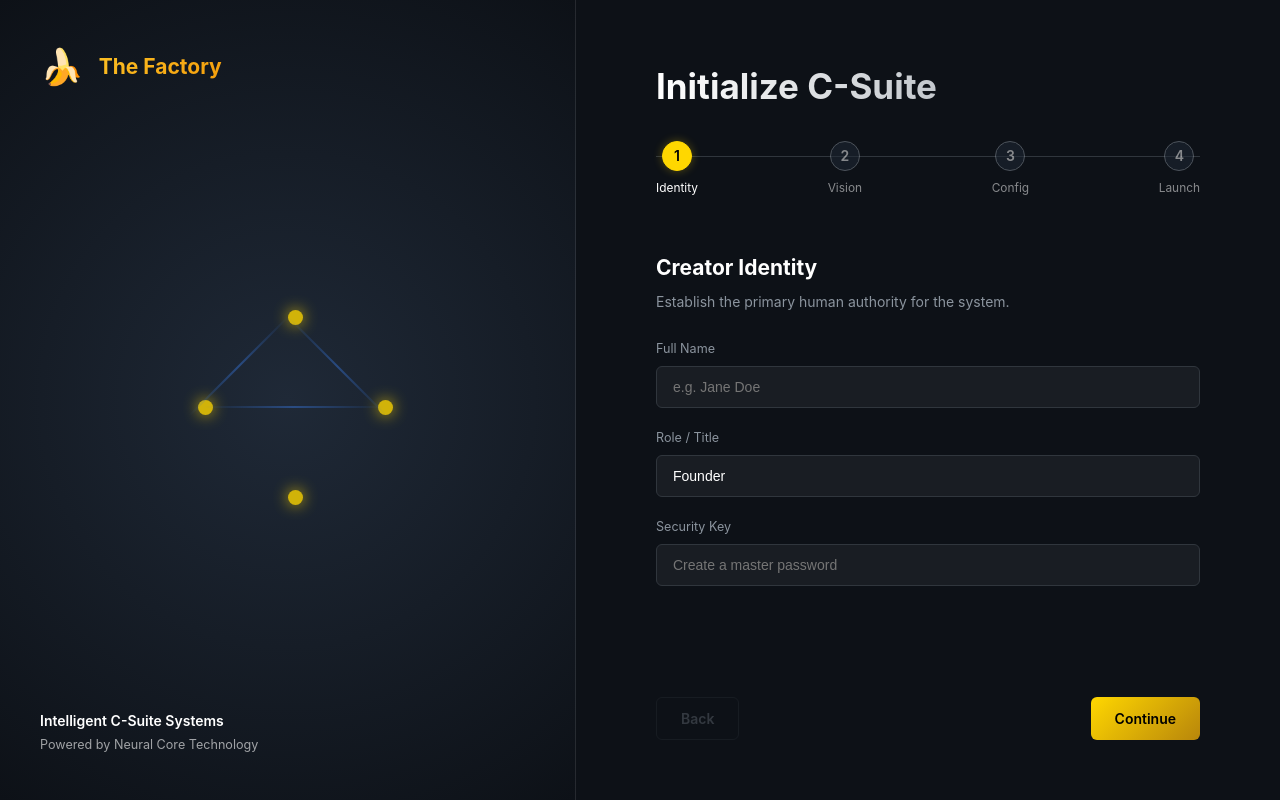
Scenario: Onboarding Page › button text changes to "Initialize System" on final step
Note: Fill step 1
Type "John Doe" into the field with placeholder "e.g. Jane Doe" at (928, 387), box [656,366,1200,408]
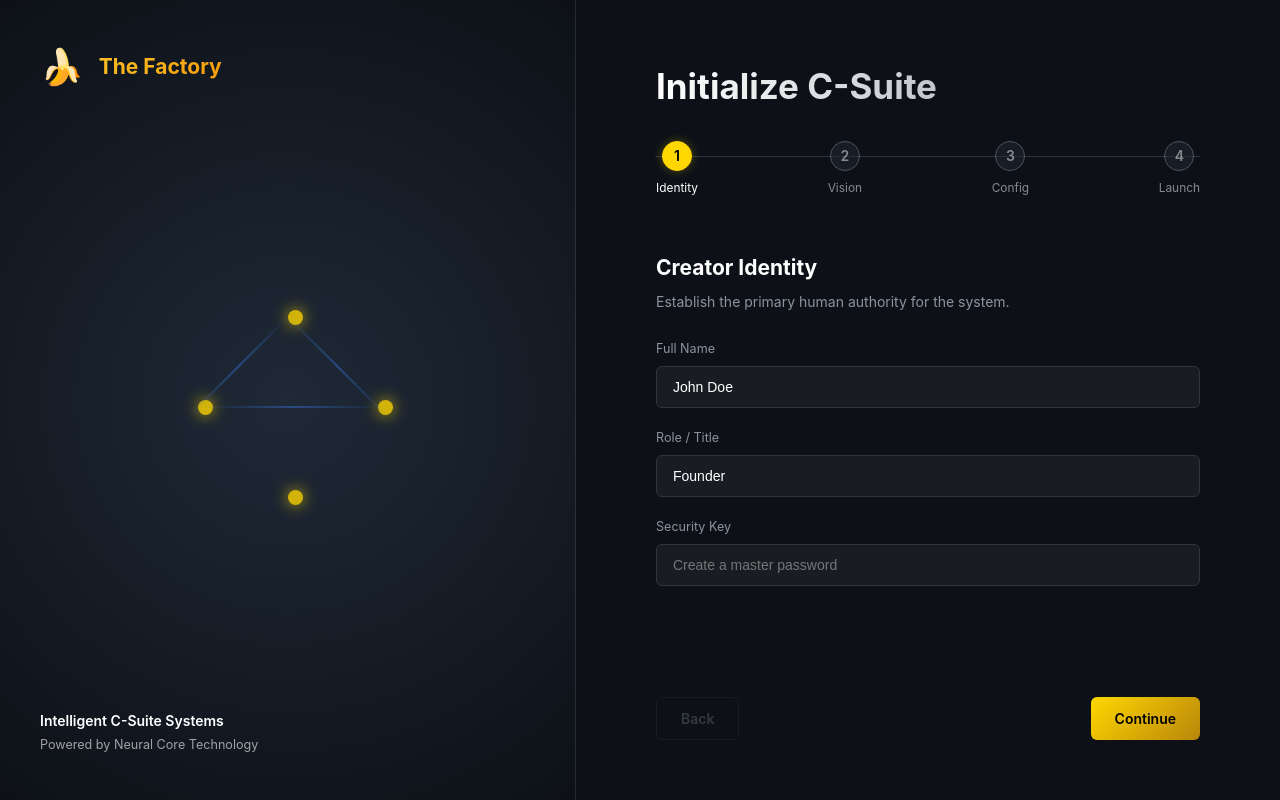
Click the button "Continue" at (1145, 718), box [1091,697,1200,740]
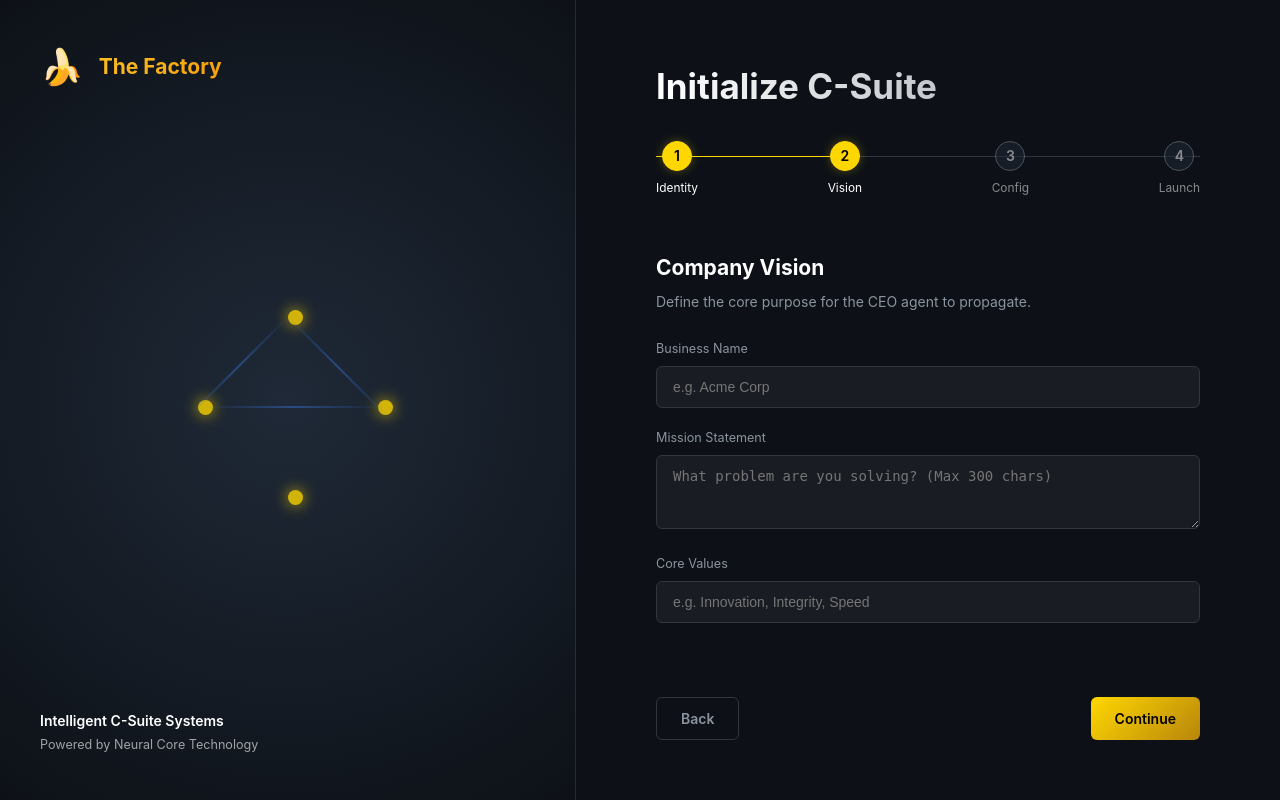
Note: Fill step 2
Type "Test Corp" into the field with placeholder "e.g. Acme Corp" at (928, 387), box [656,366,1200,408]
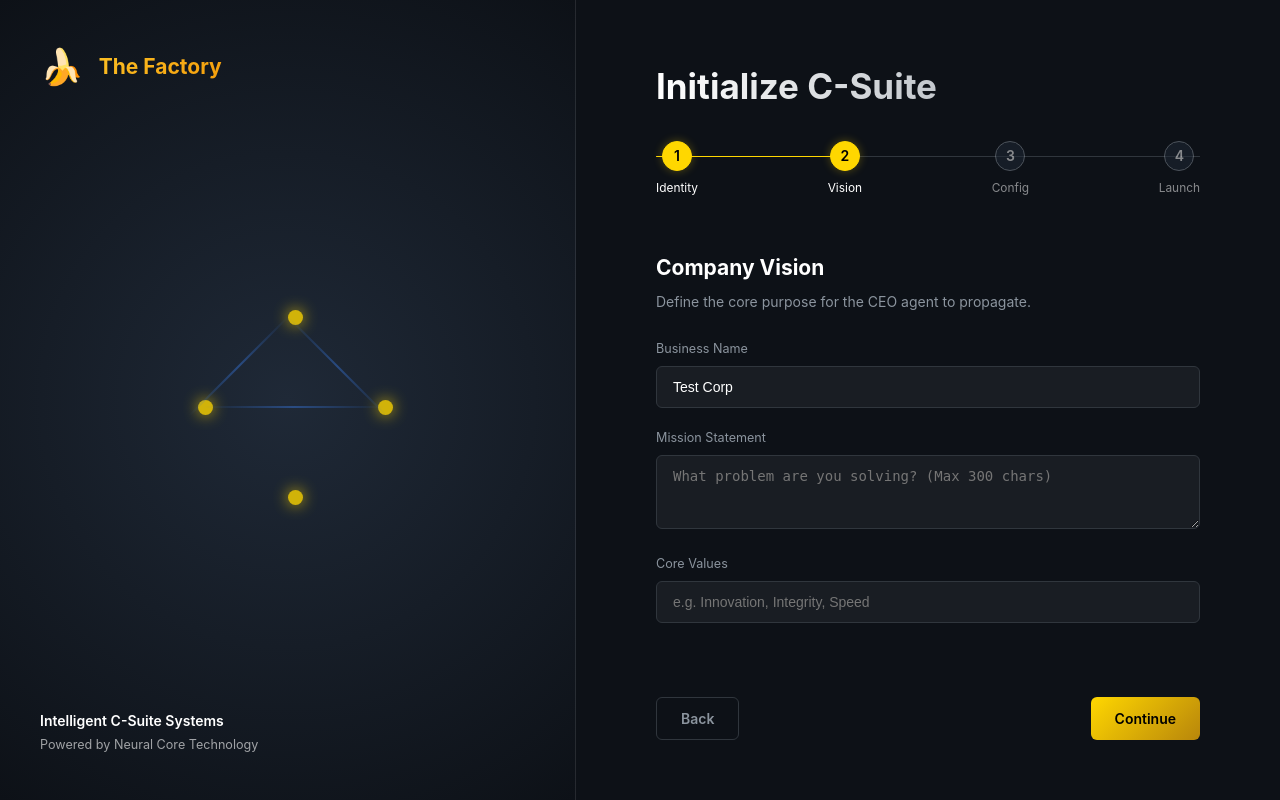
Click the button "Continue" at (1145, 718), box [1091,697,1200,740]
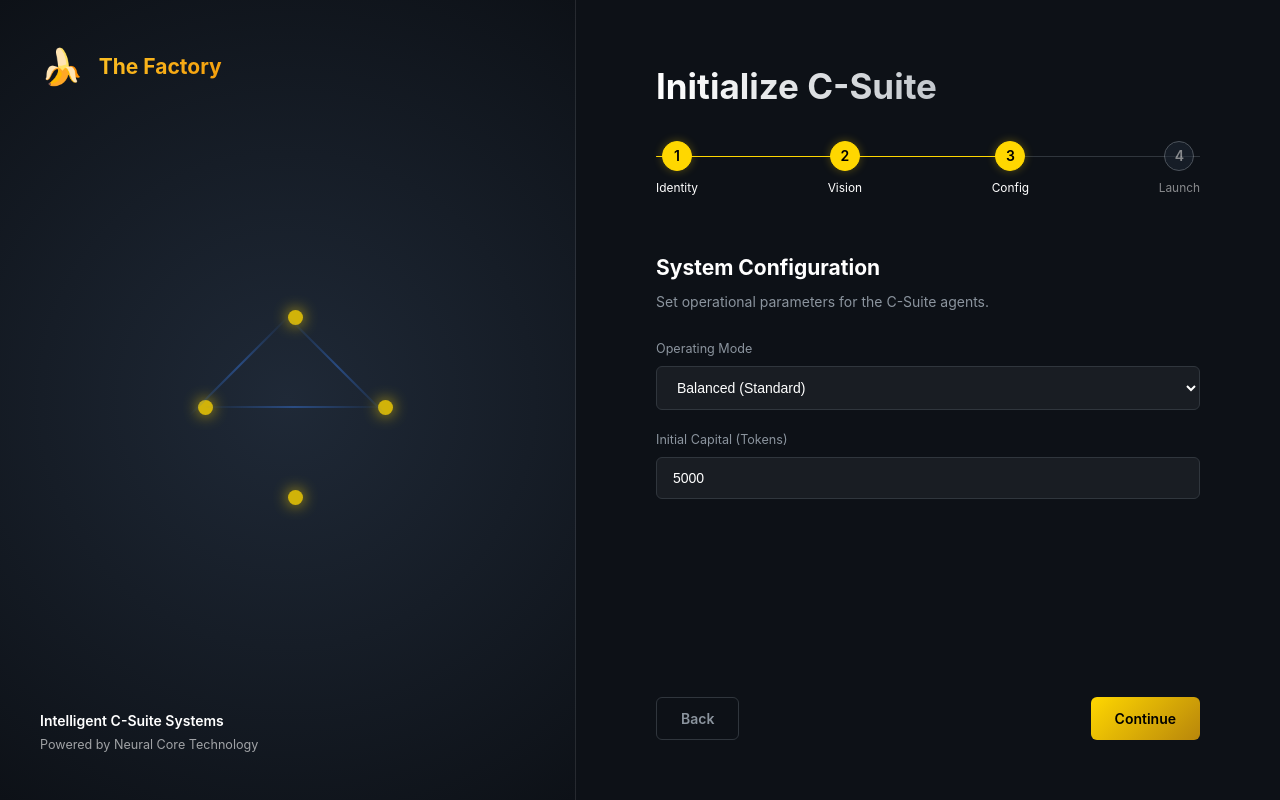
Note: no required fields
Click the button "Continue" at (1145, 718), box [1091,697,1200,740]
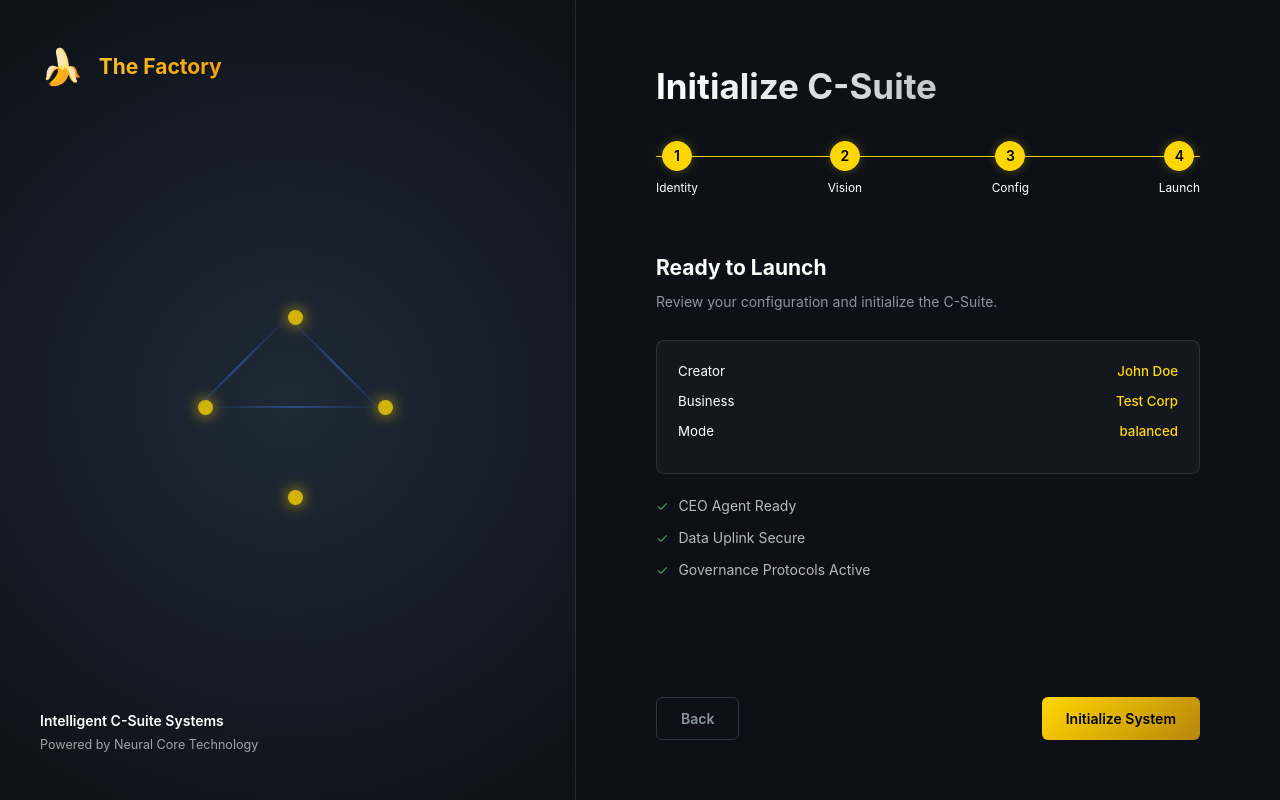
expect the button "Initialize System" is shown: met, box [1042,697,1200,740]
